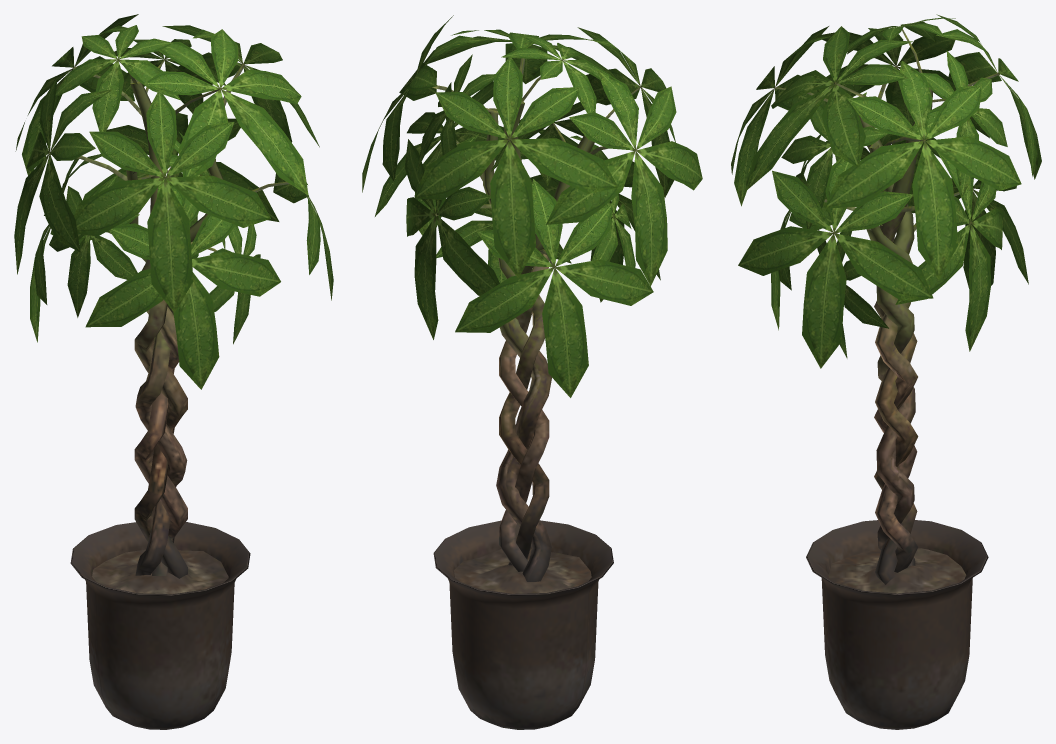
File: sm10_010_foliageplant01a.fbx
3 views of the same model, side by side, from view 1: azimuth 30°, elevation 25°; view 2: azimuth 150°, elevation 25°; view 3: azimuth 270°, elevation 25° (orthographic).
Parts seen in each view (by area): view 1: LOD_1_Group_0_Sub_1__sm10_010_FoliagePlant01A_A_Mat; view 2: LOD_1_Group_0_Sub_1__sm10_010_FoliagePlant01A_A_Mat; view 3: LOD_1_Group_0_Sub_1__sm10_010_FoliagePlant01A_A_Mat.
Boxes of the visible parts, x1,y1,x2,y2 form: LOD_1_Group_0_Sub_1__sm10_010_FoliagePlant01A_A_Mat: [14, 14, 333, 729]; LOD_1_Group_0_Sub_1__sm10_010_FoliagePlant01A_A_Mat: [362, 15, 702, 729]; LOD_1_Group_0_Sub_1__sm10_010_FoliagePlant01A_A_Mat: [731, 14, 1041, 729].
Bounding box in the file's own units: 0.8765 × 1.99 × 0.8285.
